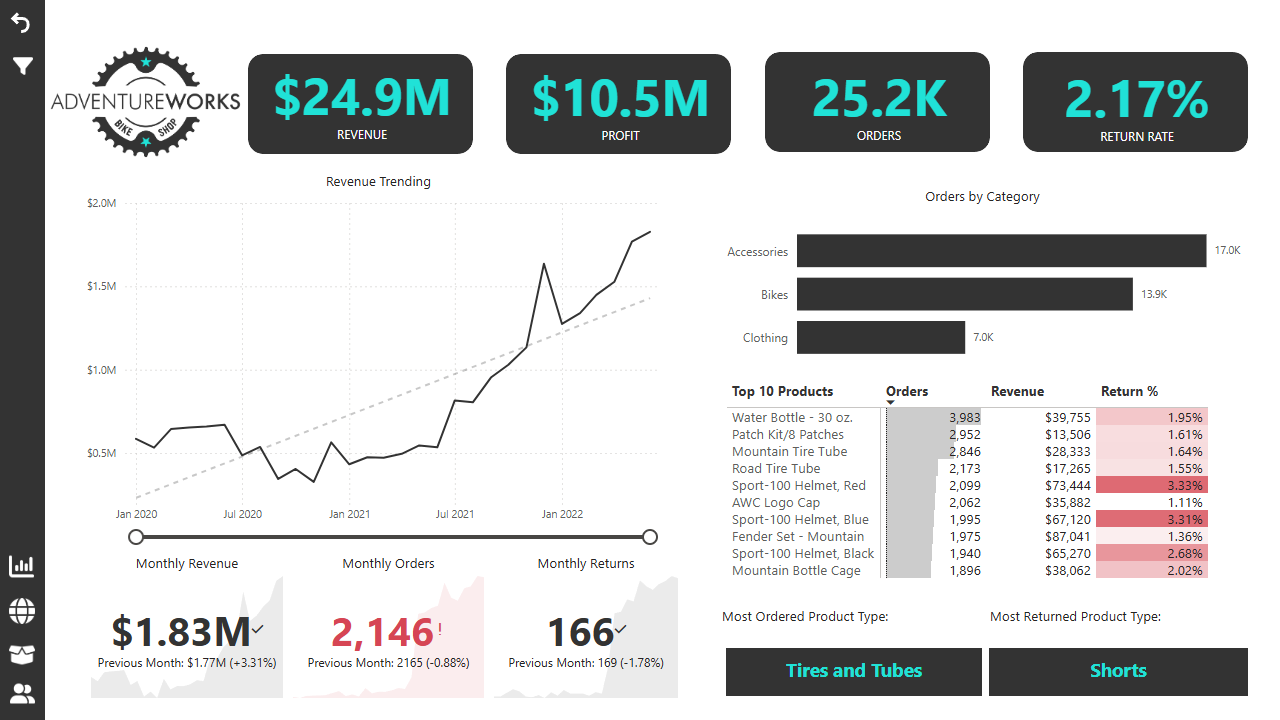

The dashboard page shown, as its layout file describes it:
{"tool":"powerbi","page":{"name":"Exec Dashboard","canvas":[1280,720],"ordinal":0},"visuals":[{"type":"shape","title":"Left Nav Background","box":[0,0,45,720],"z":0},{"type":"group","id":"g1","title":"KPI Backgrounds","box":[247.6,51.8,999.9,101.9],"z":0,"group":"g2"},{"type":"card","fields":{"Values":["Measures Table.Total Revenue"]},"box":[260.5,51.8,202.2,100.3],"z":0,"group":"g3"},{"type":"shape","box":[247.6,53.4,224.9,100.3],"z":0,"group":"g1"},{"type":"actionButton","box":[5.2,548,33.2,35.9],"z":0,"group":"g4"},{"type":"group","id":"g2","title":"KPIs","box":[247.6,51.8,999.9,101.9],"z":1000},{"type":"group","id":"g3","title":"KPI Values","box":[260.5,51.8,977.3,101.9],"z":1000,"group":"g2"},{"type":"shape","box":[764.3,51.8,224.9,100.3],"z":1000,"group":"g1"},{"type":"card","fields":{"Values":["Measures Table.Total Profit"]},"box":[518.8,52.3,202.2,100.3],"z":1000,"group":"g3"},{"type":"actionButton","box":[5.2,591.7,33.6,38.5],"z":1000,"group":"g4"},{"type":"image","title":"AW Logo","box":[24.8,15.8,242.5,171.4],"z":2000},{"type":"card","fields":{"Values":["Measures Table.Total Orders"]},"box":[777.2,52.9,202.2,100.3],"z":2000,"group":"g3"},{"type":"shape","box":[505.9,53.4,224.9,100.3],"z":2000,"group":"g1"},{"type":"actionButton","box":[5.2,634.3,33.6,40.6],"z":2000,"group":"g4"},{"type":"shape","box":[1022.6,51.8,224.9,100.3],"z":3000,"group":"g1"},{"type":"card","fields":{"Values":["Measures Table.Return Rate"]},"box":[1035.5,53.4,202.2,100.3],"z":3000,"group":"g3"},{"type":"lineChart","title":"Revenue Trending","fields":{"Y":["Measures Table.Total Revenue"],"Category":["Calendar Lookup.Year","Calendar Lookup.Start of Quarter","Calendar Lookup.Start of Month"]},"box":[80.9,171.5,595.4,377],"z":3000},{"type":"actionButton","box":[6.2,677,33.6,33.3],"z":3000,"group":"g4"},{"type":"kpi","title":"Monthly Revenue","fields":{"Indicator":["Measures Table.Total Revenue"],"TrendLine":["Calendar Lookup.Start of Month"],"Goal":["Measures Table.Previous Month Revenue"]},"box":[85.7,553.7,201.9,148.9],"z":4000},{"type":"kpi","title":"Monthly Orders","fields":{"TrendLine":["Calendar Lookup.Start of Month"],"Indicator":["Measures Table.Total Orders"],"Goal":["Measures Table.Previous Month Orders"]},"box":[287.6,553.7,201.9,148.9],"z":5000},{"type":"kpi","title":"Monthly Returns","fields":{"TrendLine":["Calendar Lookup.Start of Month"],"Indicator":["Measures Table.Total Returns"],"Goal":["Measures Table.Previous Month Returns"]},"box":[489.4,553.7,194,148.9],"z":6000},{"type":"clusteredBarChart","title":"Orders by Category","fields":{"Category":["Product Categories Lookup.CategoryName"],"Y":["Measures Table.Total Orders"]},"box":[717.4,186.9,530.6,190.9],"z":7000},{"type":"pivotTable","fields":{"Rows":["Product Lookup.ProductName"],"Values":["Measures Table.Total Orders","Measures Table.Total Revenue","Measures Table.Return Rate"]},"box":[721.7,377.4,525.2,221.8],"z":8000},{"type":"card","fields":{"Values":["Min(Product Subcategories Lookup.SubcategoryName)"]},"box":[725.6,647.8,256.8,48.6],"z":9000},{"type":"textbox","box":[717.3,602.2,194,29.3],"z":10000},{"type":"card","fields":{"Values":["Min(Product Subcategories Lookup.SubcategoryName)"]},"box":[989.2,647.8,258.7,48.6],"z":11000},{"type":"textbox","box":[984.5,602.2,194,29.3],"z":12000},{"type":"actionButton","box":[5.8,7.8,32.1,29.2],"z":14000},{"type":"group","id":"g4","title":"Navigation Buttons","box":[5.2,548,34.6,162.3],"z":15000},{"type":"actionButton","box":[8.8,51.6,32.1,28.2],"z":16000}]}

Visuals, with their boxes on the page's 1280x720 design canvas (x1, y1, x2, y2). These are canvas units, not pixel positions in the 1280x720 screenshot, which may show the page scaled, cropped or inside an application window:
"Left Nav Background" shape: <region>0, 0, 45, 720</region>
"KPI Backgrounds" group: <region>248, 52, 1248, 154</region>
card - Measures Table.Total Revenue: <region>260, 52, 463, 152</region>
shape: <region>248, 53, 472, 154</region>
actionButton: <region>5, 548, 38, 584</region>
"KPIs" group: <region>248, 52, 1248, 154</region>
"KPI Values" group: <region>260, 52, 1238, 154</region>
shape: <region>764, 52, 989, 152</region>
card - Measures Table.Total Profit: <region>519, 52, 721, 153</region>
actionButton: <region>5, 592, 39, 630</region>
"AW Logo" image: <region>25, 16, 267, 187</region>
card - Measures Table.Total Orders: <region>777, 53, 979, 153</region>
shape: <region>506, 53, 731, 154</region>
actionButton: <region>5, 634, 39, 675</region>
shape: <region>1023, 52, 1248, 152</region>
card - Measures Table.Return Rate: <region>1036, 53, 1238, 154</region>
"Revenue Trending" lineChart: <region>81, 172, 676, 548</region>
actionButton: <region>6, 677, 40, 710</region>
"Monthly Revenue" kpi: <region>86, 554, 288, 703</region>
"Monthly Orders" kpi: <region>288, 554, 490, 703</region>
"Monthly Returns" kpi: <region>489, 554, 683, 703</region>
"Orders by Category" clusteredBarChart: <region>717, 187, 1248, 378</region>
pivotTable - Product Lookup.ProductName x Measures Table.Total Orders: <region>722, 377, 1247, 599</region>
card - Min(Product Subcategories Lookup.SubcategoryName): <region>726, 648, 982, 696</region>
textbox: <region>717, 602, 911, 632</region>
card - Min(Product Subcategories Lookup.SubcategoryName): <region>989, 648, 1248, 696</region>
textbox: <region>984, 602, 1178, 632</region>
actionButton: <region>6, 8, 38, 37</region>
"Navigation Buttons" group: <region>5, 548, 40, 710</region>
actionButton: <region>9, 52, 41, 80</region>
